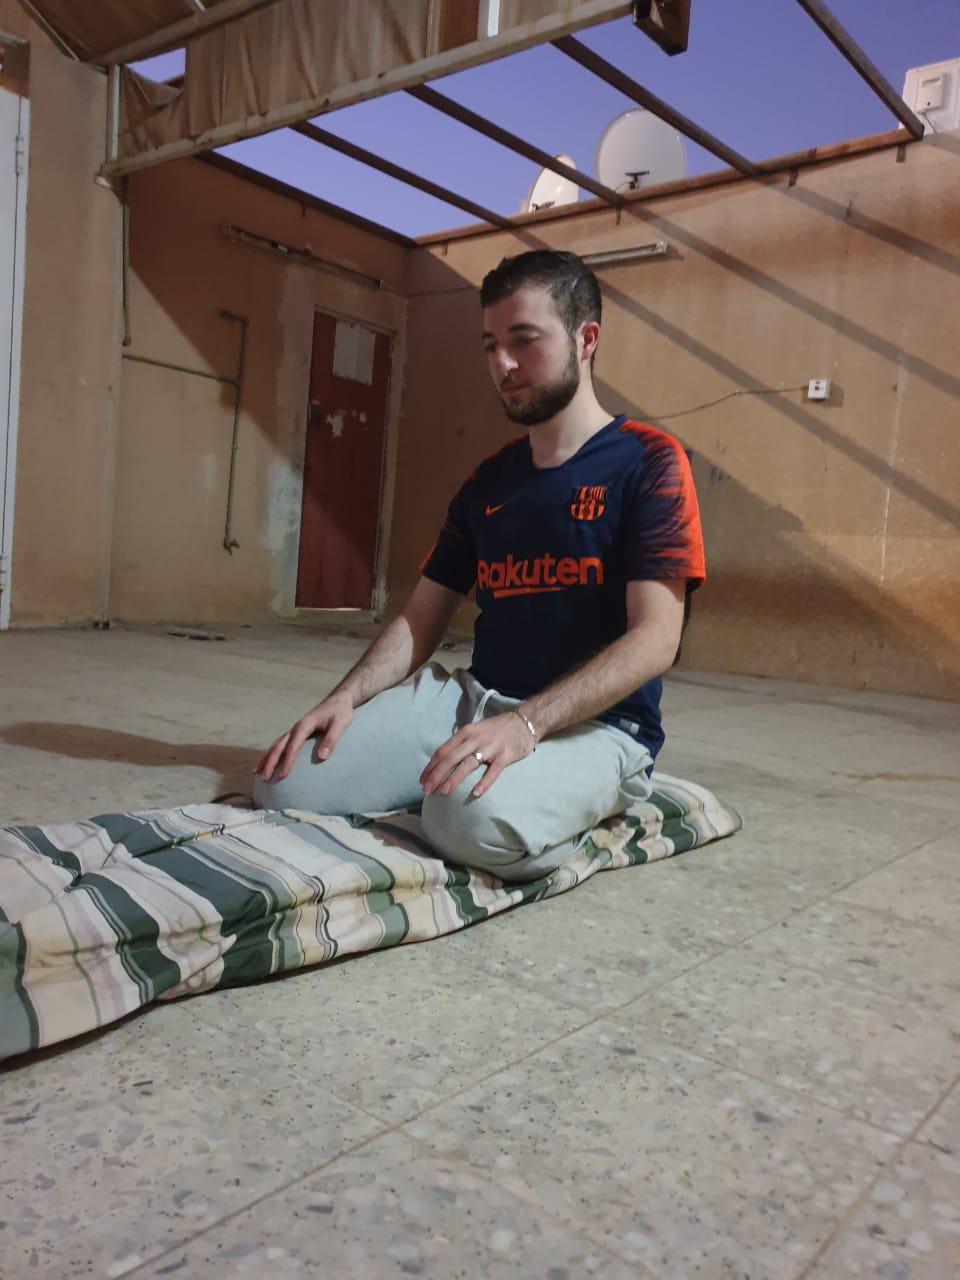julus: (248, 247, 709, 879)
